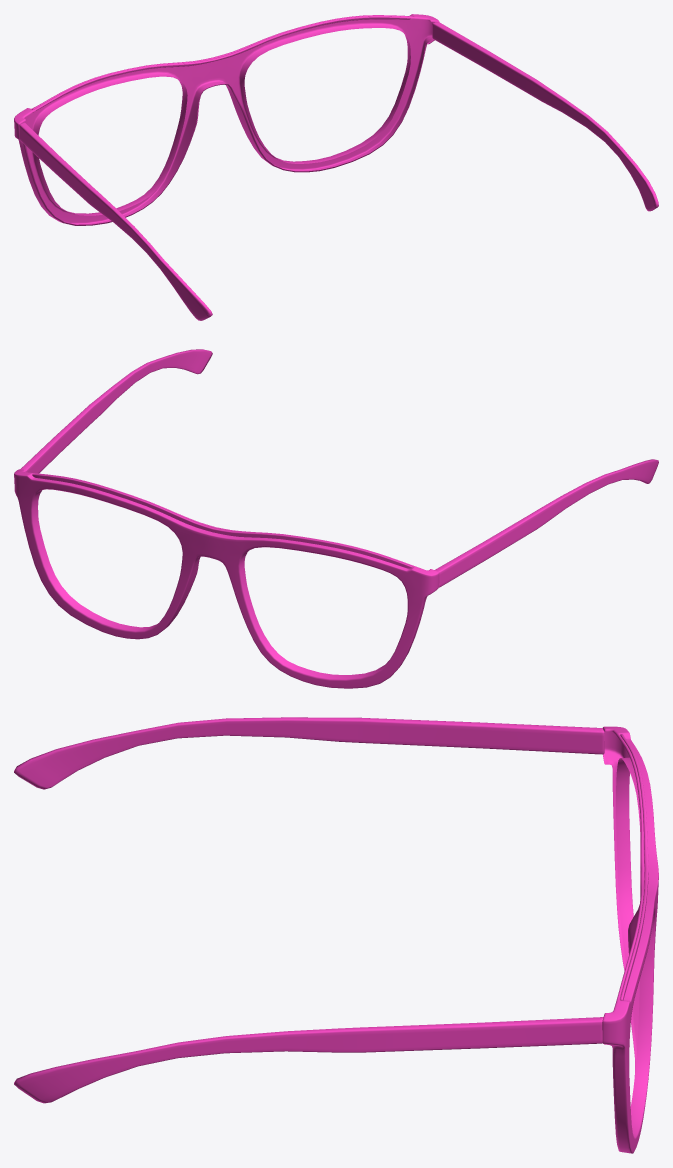
Rendered from redGlasses.fbx.
3 renders of one model, top to bottom at view 1: azimuth 30°, elevation 25°; view 2: azimuth 150°, elevation 25°; view 3: azimuth 270°, elevation 25°, orthographic. The views are drawn at different scales.
Parts seen in each view (by area): view 1: am_body; view 2: am_body; view 3: am_body.
Boxes of the visible parts, <box> form: am_body: <box>14,14,658,320</box>; am_body: <box>14,349,658,688</box>; am_body: <box>14,717,658,1153</box>.
Bounding box in the file's own units: 16.26 × 4.9 × 13.72.
